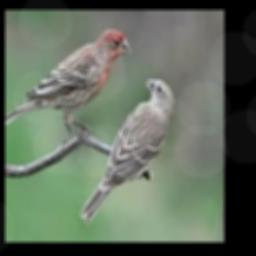Sparrow: (5, 29, 131, 140), (80, 79, 175, 225)
